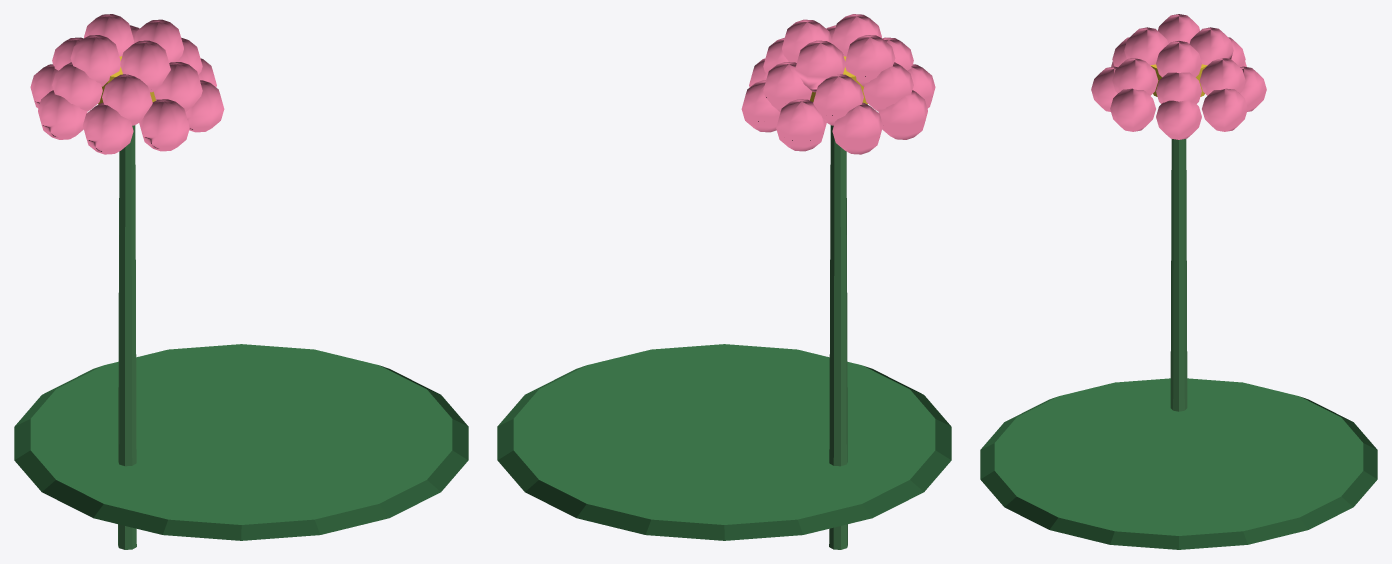
File: hoa_sen_tuoi.obj
The picture shows the model from 3 angles, left to right: view 1: azimuth 30°, elevation 25°; view 2: azimuth 150°, elevation 25°; view 3: azimuth 270°, elevation 25°; orthographic projection. The views are drawn at different scales.
Size of the model in its own units: 0.281 by 0.346 by 0.2758.
